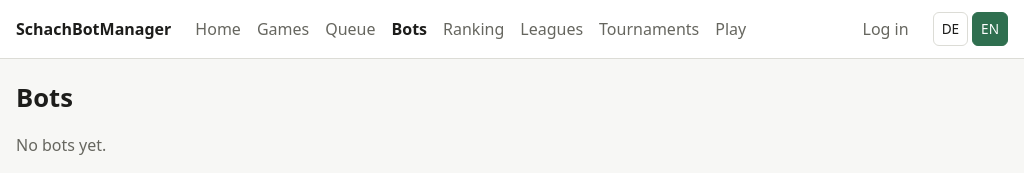
Test: layout › switches the language and remembers it
Expected: the text "No bots yet." is shown, [16,134,106,156]
Click the button "DE" at (950, 29), box [933,12,968,46]
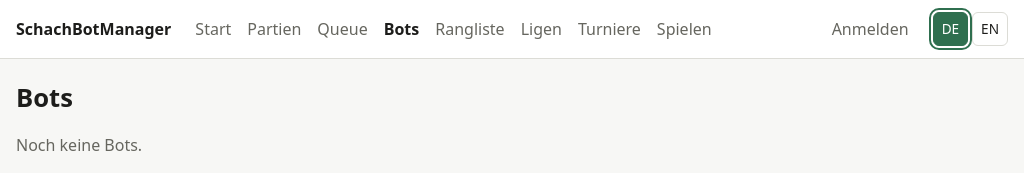
Expected: the text "Noch keine Bots." is shown, [16,134,142,156]
Expected: the link "Partien" is shown, [247,17,301,41]
